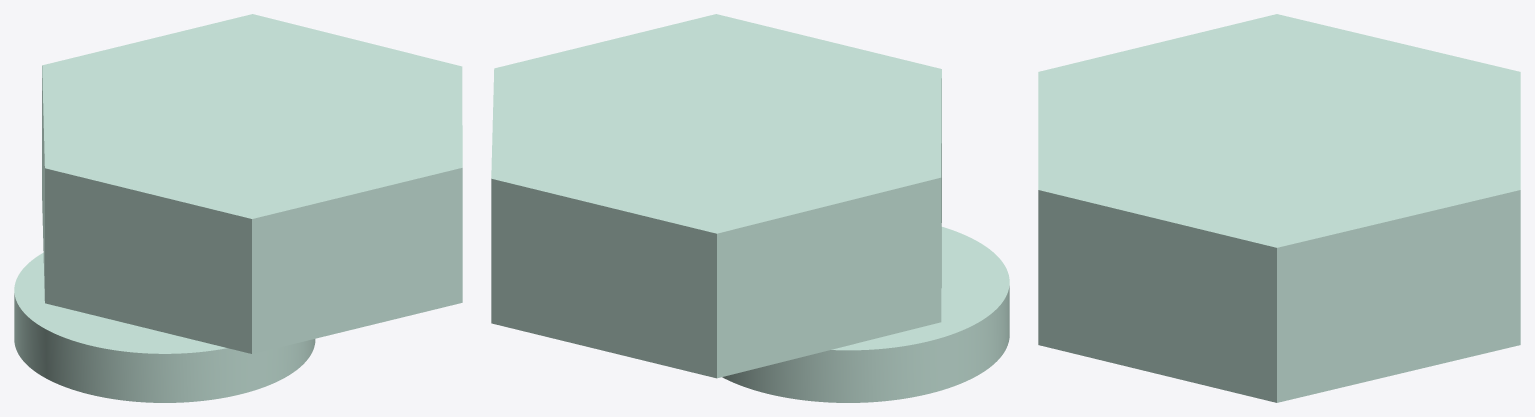
3 views of the same model, side by side, from view 1: azimuth 30°, elevation 25°; view 2: azimuth 150°, elevation 25°; view 3: azimuth 270°, elevation 25° (orthographic). The views are drawn at different scales.
Visible parts, largest first — view 1: Renderer Node; view 2: Renderer Node; view 3: Renderer Node.
Boxes of the visible parts, x1,y1,x2,y2 form: Renderer Node: [14, 14, 462, 402]; Renderer Node: [491, 14, 1009, 402]; Renderer Node: [1038, 14, 1520, 402].
Size of the model in its own units: 0.2959 by 0.1172 by 0.2422.
